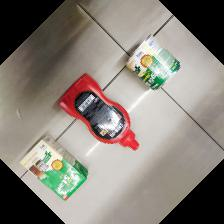Chinsu: (55, 72, 139, 152)
NSPN_Hop: (18, 135, 88, 202)
NSPN_Lon: (123, 35, 184, 94)
